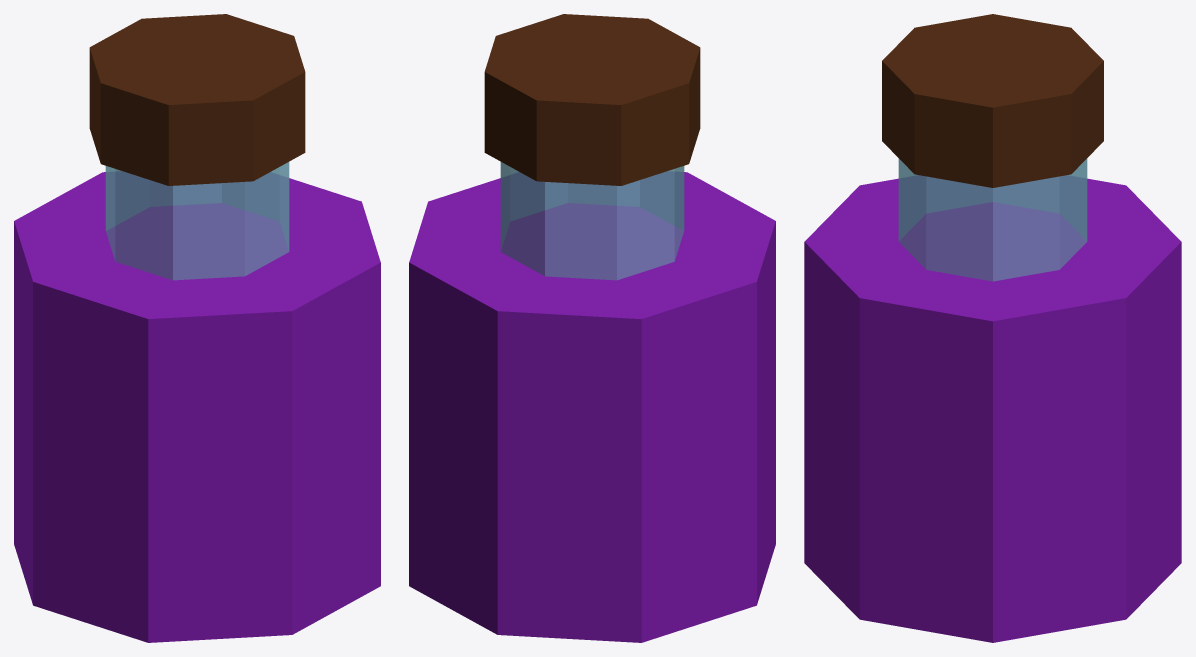
The model's file is poison_potion.obj.
3 renders of one model, left to right at view 1: azimuth 30°, elevation 25°; view 2: azimuth 150°, elevation 25°; view 3: azimuth 270°, elevation 25°, orthographic.
Visible parts, largest first — view 1: models/items/poison_potion.obj; view 2: models/items/poison_potion.obj; view 3: models/items/poison_potion.obj.
Boxes of the visible parts, box(x1,y1,x2,y2) form: models/items/poison_potion.obj: box(14, 14, 380, 642); models/items/poison_potion.obj: box(409, 14, 775, 642); models/items/poison_potion.obj: box(804, 14, 1181, 642).
Bounding box in the file's own units: 0.68 × 1 × 0.68.
